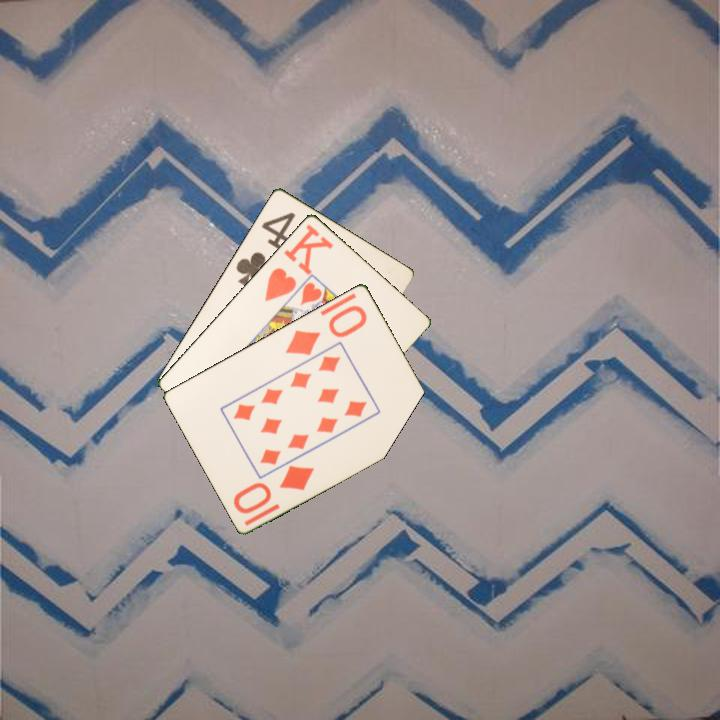10d: (282, 301, 370, 358), (230, 461, 317, 517)
4c: (232, 208, 298, 290)
Kh: (261, 220, 336, 304)
